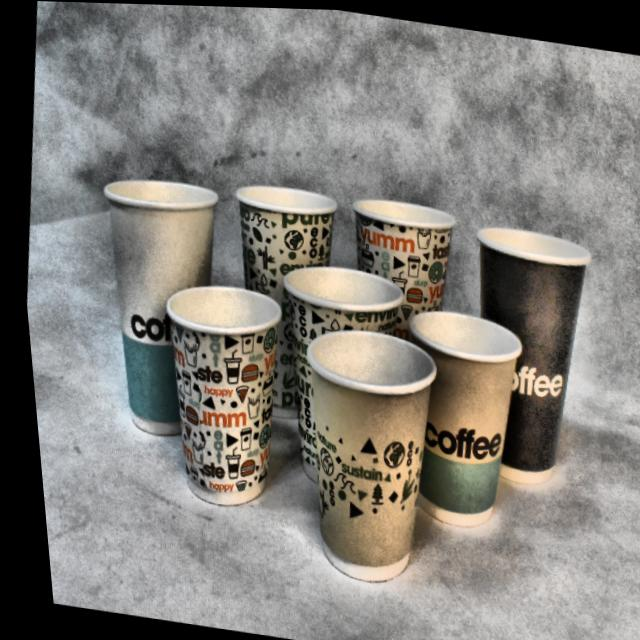Cup: (434, 207, 603, 491), (267, 312, 436, 590), (67, 163, 235, 441), (129, 269, 293, 524), (251, 257, 419, 497), (366, 301, 530, 540), (202, 171, 352, 430)
